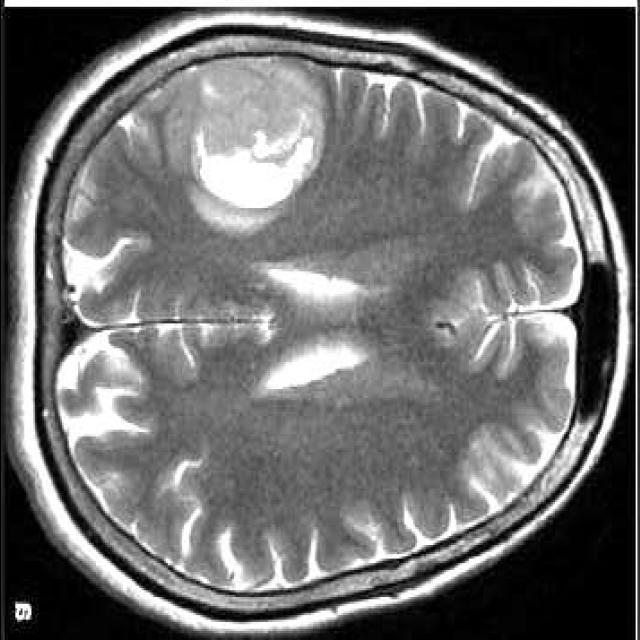tumor: (156, 57, 324, 213)
